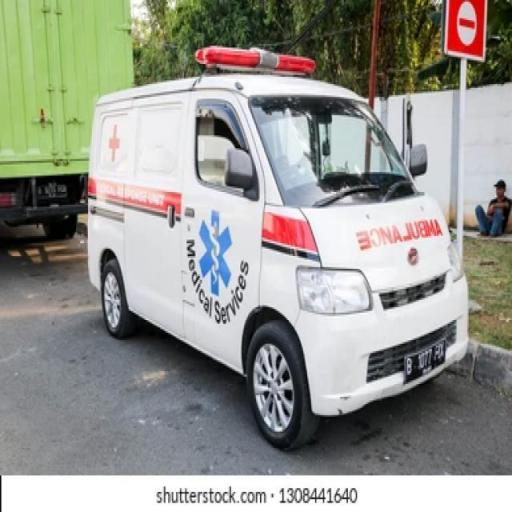Police car: (60, 25, 498, 463)
